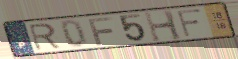0: (60, 18, 89, 49)
5: (116, 13, 148, 43)
F: (175, 7, 204, 39), (86, 16, 115, 47)
H: (142, 9, 185, 43)
R: (27, 22, 63, 52)
